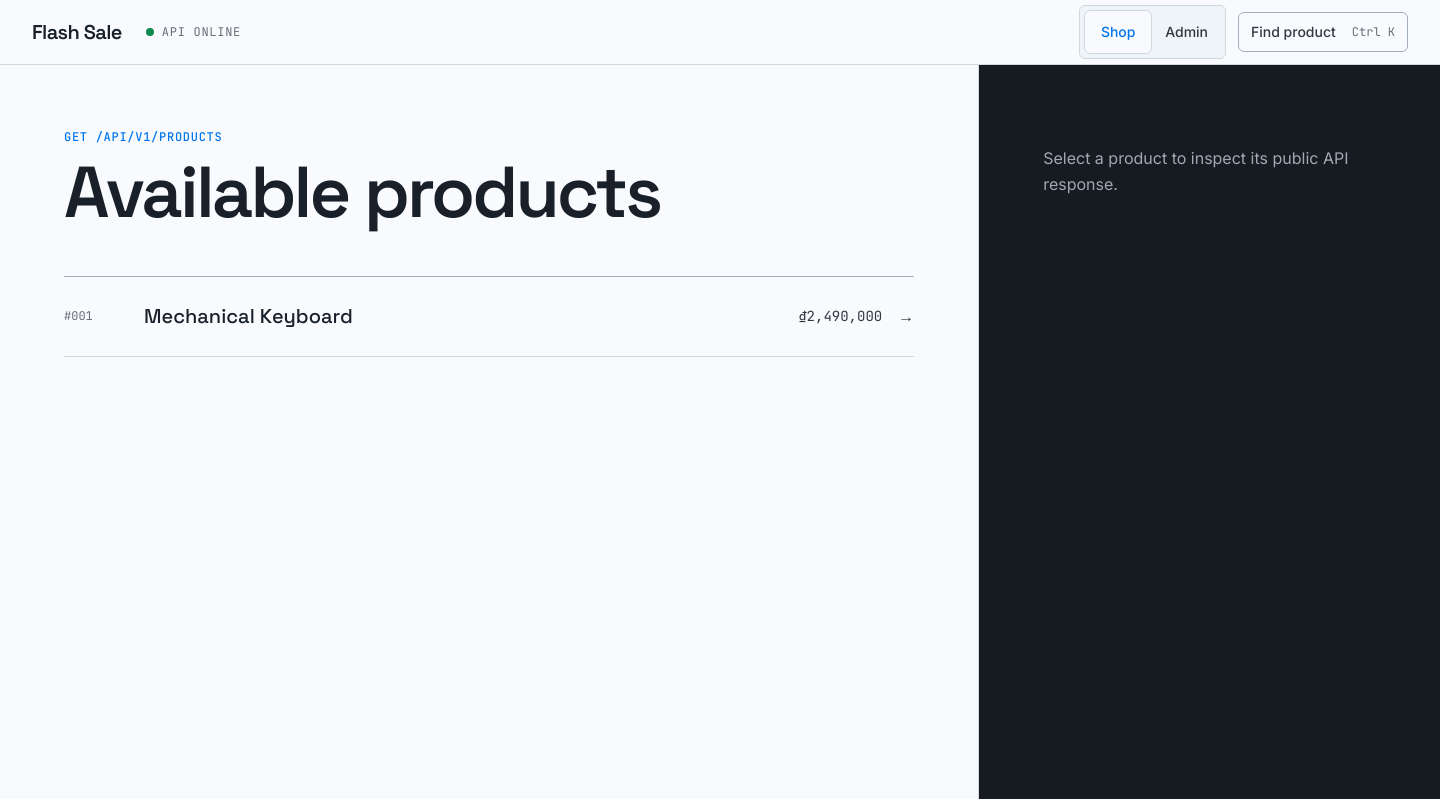
Scenario: App › lets a customer browse products and open a product detail
Click the button "#001 Mechanical Keyboard ₫2,490,000 →" at x=248, y=316, box [64,276,914,356]
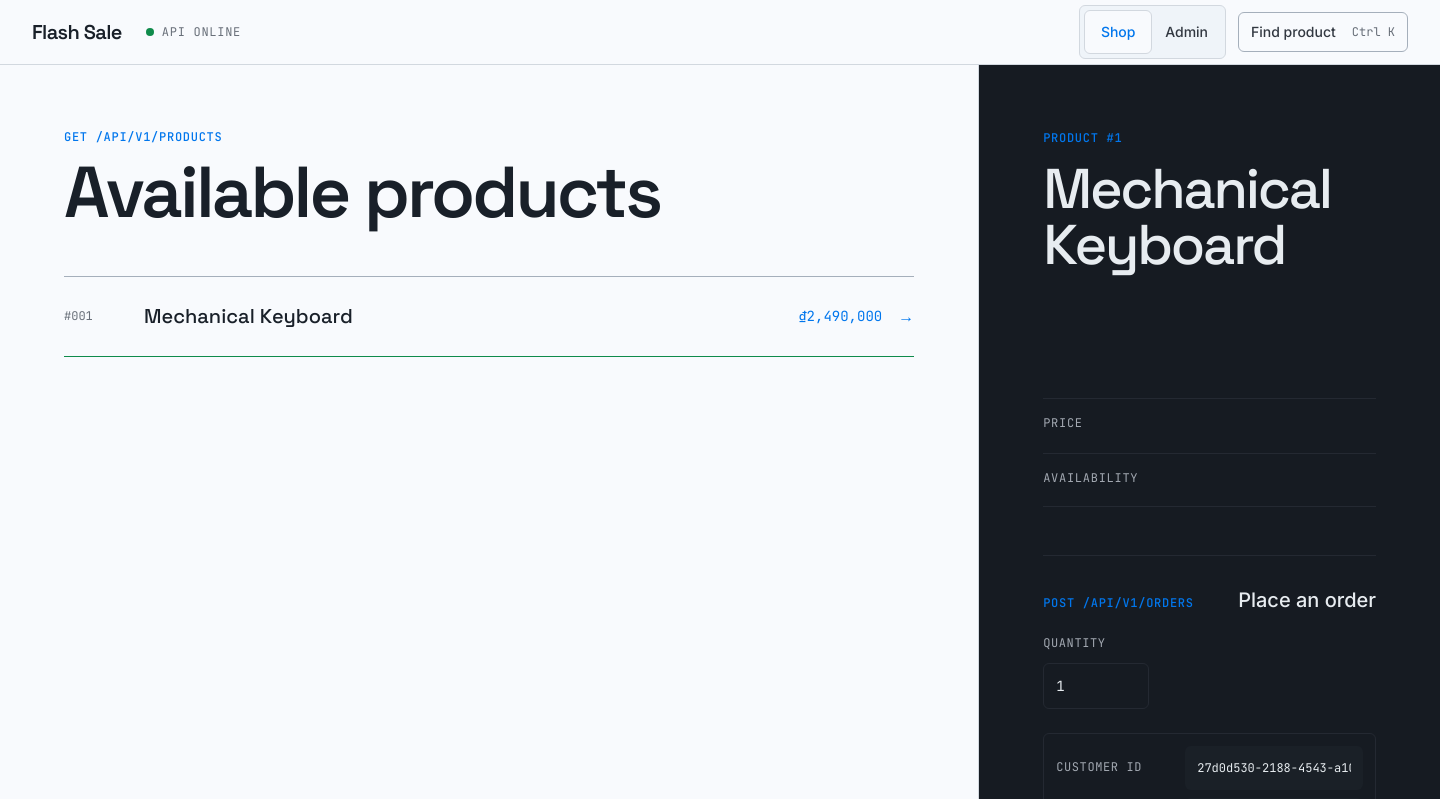
Expected: the heading "Mechanical Keyboard" is shown, [1043,161,1376,273]
